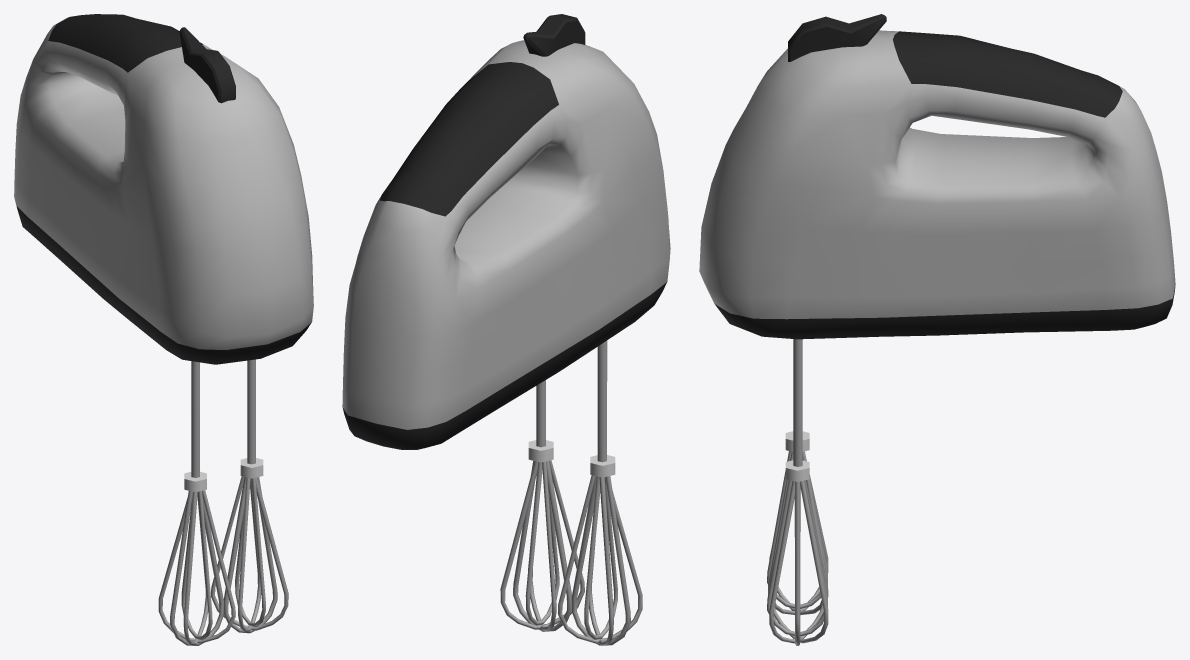
The model's file is ElectricMixer_01.fbx.
3 renders of one model, left to right at view 1: azimuth 30°, elevation 25°; view 2: azimuth 150°, elevation 25°; view 3: azimuth 270°, elevation 25°, orthographic. The views are drawn at different scales.
Visible parts, largest first — view 1: ElectricMixer_01, ElectricMixer_01_Whisk_Right, ElectricMixer_01_Whisk_Left, ElectricMixer_01_Switch; view 2: ElectricMixer_01, ElectricMixer_01_Whisk_Right, ElectricMixer_01_Whisk_Left, ElectricMixer_01_Switch; view 3: ElectricMixer_01, ElectricMixer_01_Whisk_Left, ElectricMixer_01_Switch, ElectricMixer_01_Whisk_Right.
Boxes of the visible parts, box(x1,y1,x2,y2) form: ElectricMixer_01: box(14, 14, 313, 364); ElectricMixer_01_Whisk_Right: box(158, 361, 235, 645); ElectricMixer_01_Whisk_Left: box(211, 359, 288, 633); ElectricMixer_01_Switch: box(179, 27, 235, 103); ElectricMixer_01: box(342, 40, 670, 449); ElectricMixer_01_Whisk_Right: box(557, 340, 642, 645); ElectricMixer_01_Whisk_Left: box(500, 380, 584, 631); ElectricMixer_01_Switch: box(523, 14, 585, 56); ElectricMixer_01: box(699, 30, 1175, 339); ElectricMixer_01_Whisk_Left: box(767, 339, 828, 645); ElectricMixer_01_Switch: box(788, 14, 886, 61); ElectricMixer_01_Whisk_Right: box(767, 431, 828, 615).
Bounding box in the file's own units: 0.1095 × 0.4459 × 0.3127.
